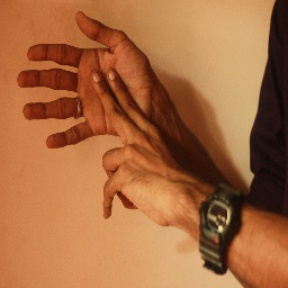N: (12, 5, 177, 201)
